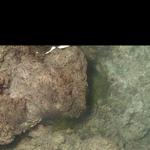dead: (2, 46, 148, 149)
